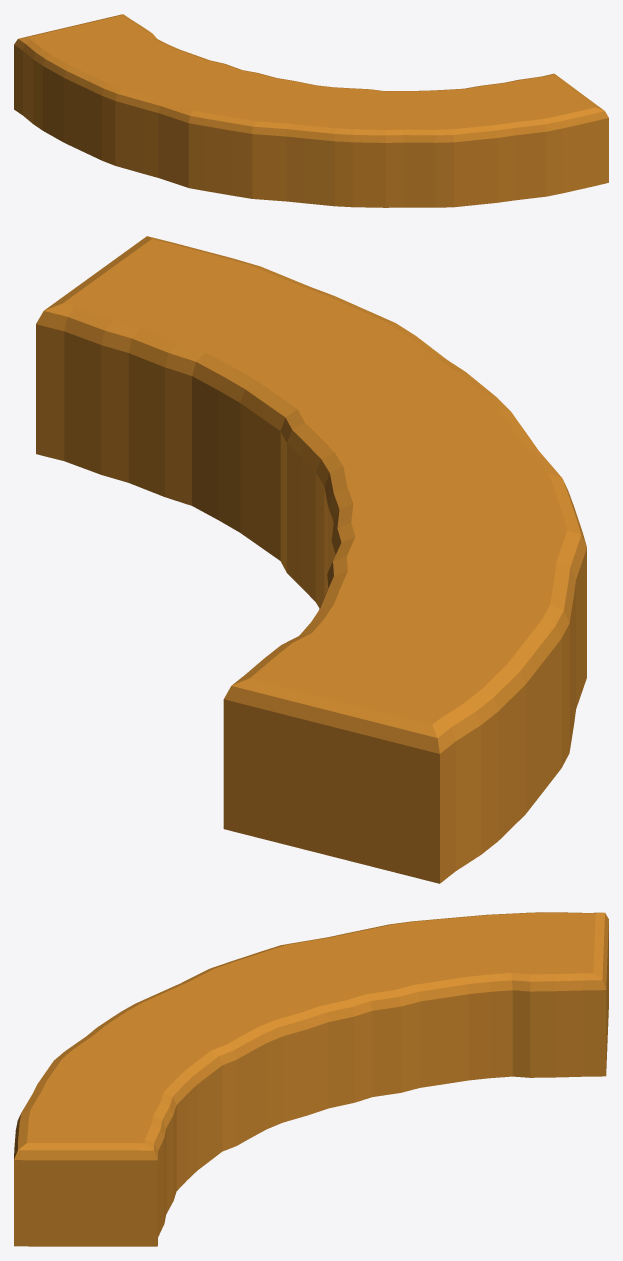
File: Railway_Curved_01.fbx
3 renders of one model, top to bottom at view 1: azimuth 30°, elevation 25°; view 2: azimuth 150°, elevation 25°; view 3: azimuth 270°, elevation 25°, orthographic. The views are drawn at different scales.
Parts seen in each view (by area): view 1: curved.001; view 2: curved.001; view 3: curved.001.
Part boxes in pixels (x1=…): curved.001: x1=14, y1=14, x2=608, y2=207; curved.001: x1=36, y1=236, x2=586, y2=883; curved.001: x1=14, y1=912, x2=608, y2=1246.
Bounding box in the file's own units: 528 × 100 × 550.
